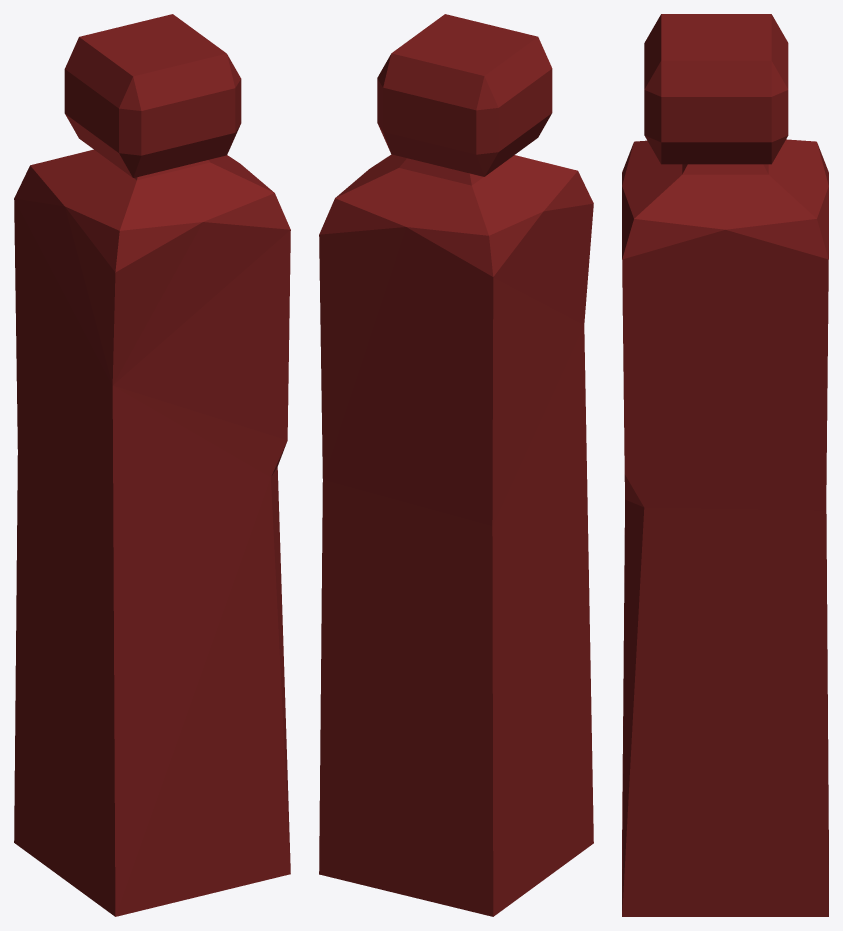
Rendered from Fence_2_3 Asia.fbx.
3 views of the same model, side by side, from view 1: azimuth 30°, elevation 25°; view 2: azimuth 150°, elevation 25°; view 3: azimuth 270°, elevation 25° (orthographic). The views are drawn at different scales.
Parts seen in each view (by area): view 1: Fence_2_3; view 2: Fence_2_3; view 3: Fence_2_3.
Part boxes in pixels (left/top/right/bottom): Fence_2_3: left=14, top=14, right=290, bottom=916; Fence_2_3: left=319, top=14, right=593, bottom=916; Fence_2_3: left=622, top=14, right=828, bottom=916.
Bounding box in the file's own units: 0.2304 × 1.03 × 0.2304.
